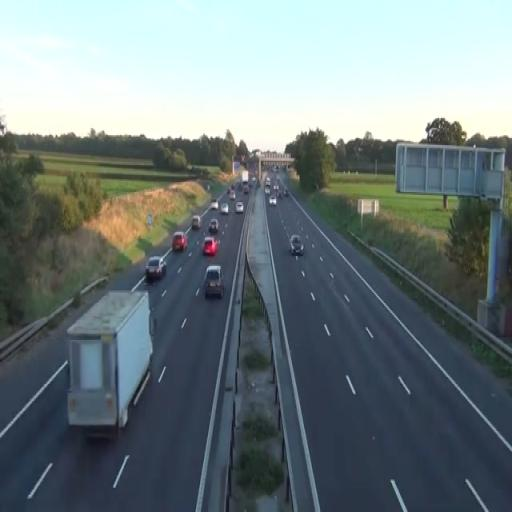Car: (204, 264, 224, 298), (145, 256, 167, 282), (172, 230, 188, 252), (289, 235, 304, 256), (204, 236, 218, 256), (208, 218, 219, 234), (192, 215, 201, 229), (235, 201, 244, 214), (220, 204, 229, 216)
Truck: (65, 288, 155, 440)
